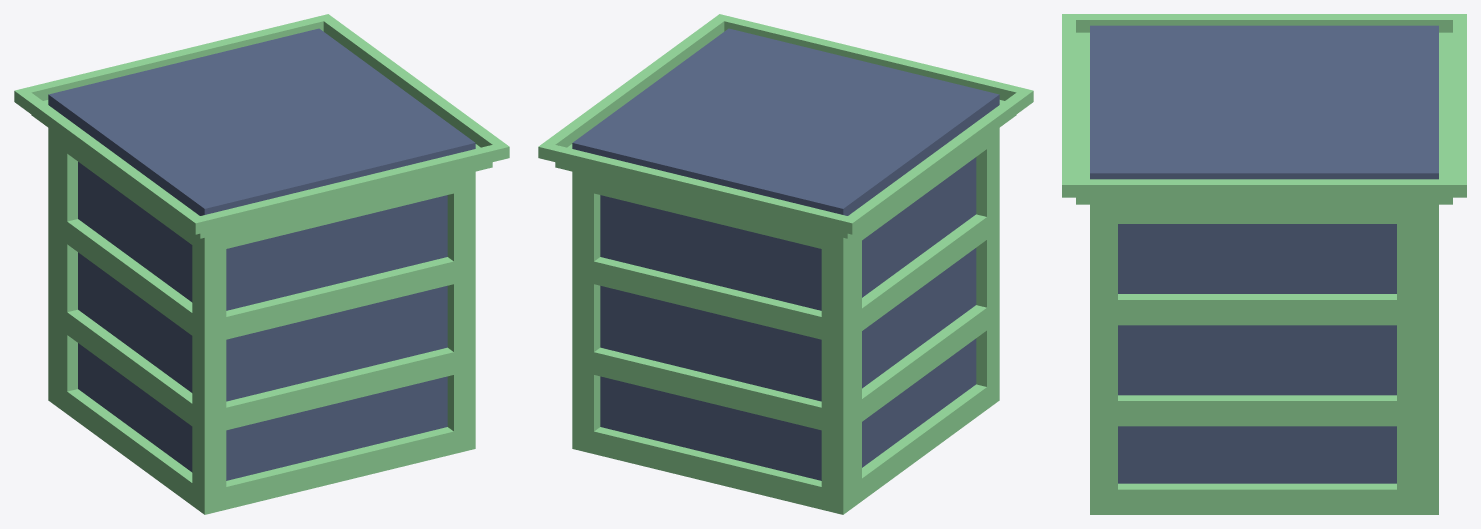
Rendered from seventeenthModel.fbx.
3 views of the same model, side by side, from view 1: azimuth 30°, elevation 25°; view 2: azimuth 150°, elevation 25°; view 3: azimuth 270°, elevation 25° (orthographic). The views are drawn at different scales.
Visible parts, largest first — view 1: Box; view 2: Box; view 3: Box.
Boxes of the visible parts, x1=… form: Box: x1=14, y1=14, x2=509, y2=514; Box: x1=538, y1=14, x2=1033, y2=514; Box: x1=1062, y1=14, x2=1466, y2=514.
Bounding box in the file's own units: 29 × 27 × 29.
Materials: 1 (1 with a texture image).
